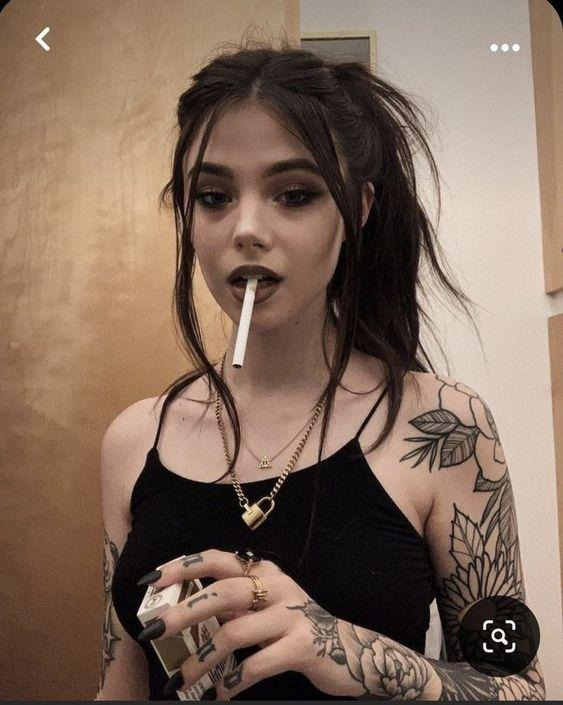cigarette: (231, 279, 259, 368)
